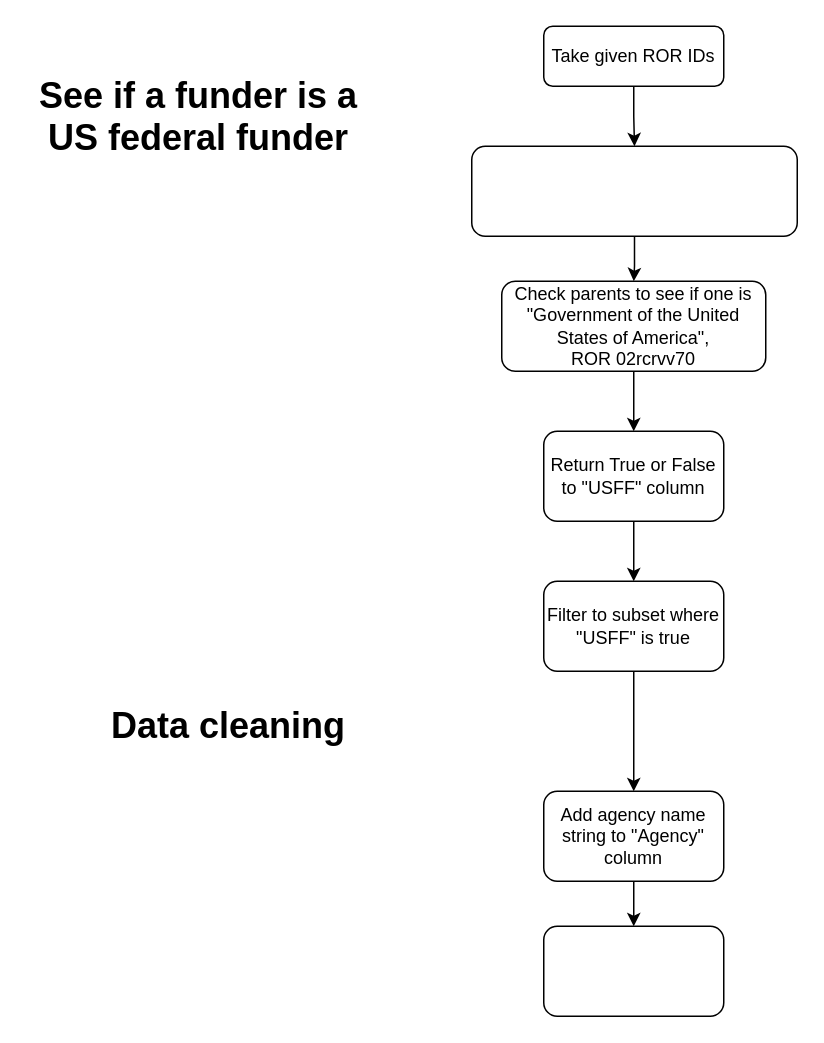
This 824x1043 diagram has some shape labels left out. The shapes that lost their labels are listed below. From the top down, each one's centre as x and y in pixels, then its label:
(633,190): Load data from https://api.ror.org/organizations/{org_id}
(633,970): Collapse by DOI to get DOI-level count
